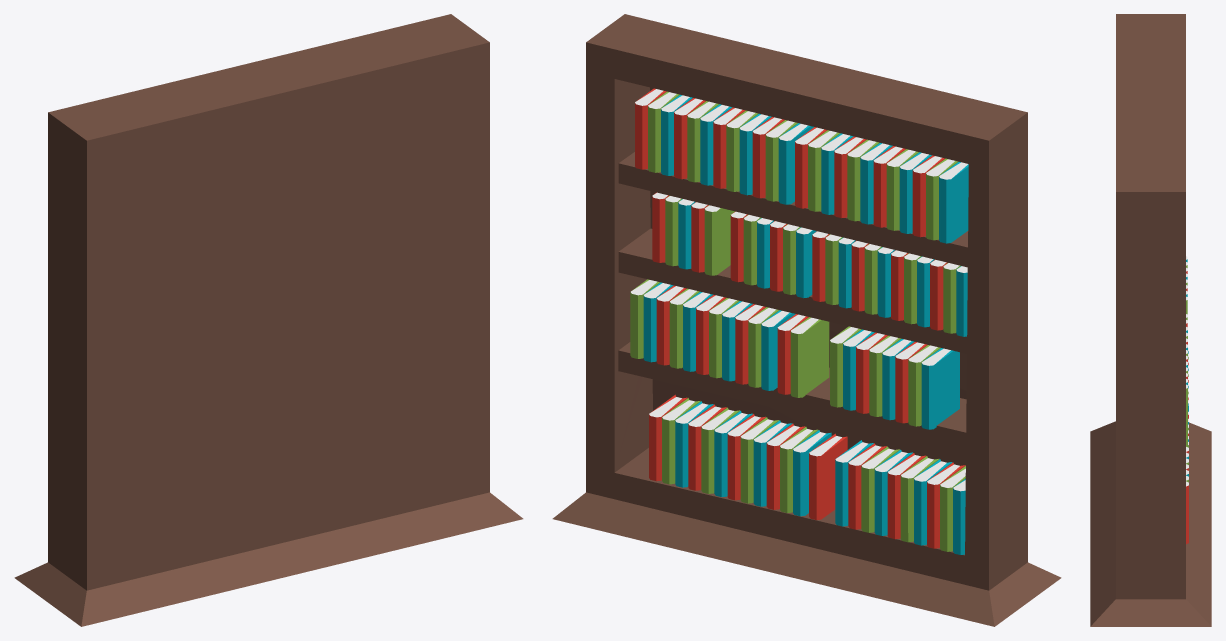
Rendered from bookshelf.glb.
3 renders of one model, left to right at view 1: azimuth 30°, elevation 25°; view 2: azimuth 150°, elevation 25°; view 3: azimuth 270°, elevation 25°, orthographic. The views are drawn at different scales.
Parts seen in each view (by area): view 1: group1295511530; view 2: group1295511530, group1107036698, group568524671, group1707400862, group886227347, group1759471337, group1660160457, group861598260, group362314774, group584662381, group488812185, group2010286517 (+80 smaller); view 3: group1295511530.
Boxes of the visible parts, <box> form: group1295511530: <box>14,14,523,626</box>; group1295511530: <box>552,14,1061,626</box>; group1107036698: <box>790,317,829,397</box>; group568524671: <box>921,348,959,429</box>; group1707400862: <box>809,433,847,520</box>; group886227347: <box>939,162,968,243</box>; group1759471337: <box>704,205,734,275</box>; group1660160457: <box>793,430,831,516</box>; group861598260: <box>778,123,813,204</box>; group362314774: <box>761,310,795,390</box>; group584662381: <box>753,420,792,506</box>; group488812185: <box>848,443,886,529</box>; group2010286517: <box>740,417,779,503</box>; group1295511530: <box>1090,14,1211,626</box>.
Bounding box in the file's own units: 1.69 × 1.72 × 0.4444.
